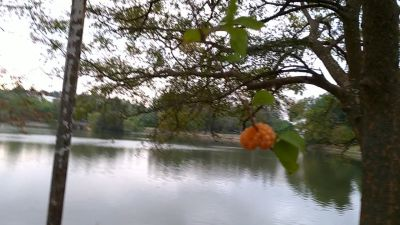eggs: (239, 121, 277, 153)
